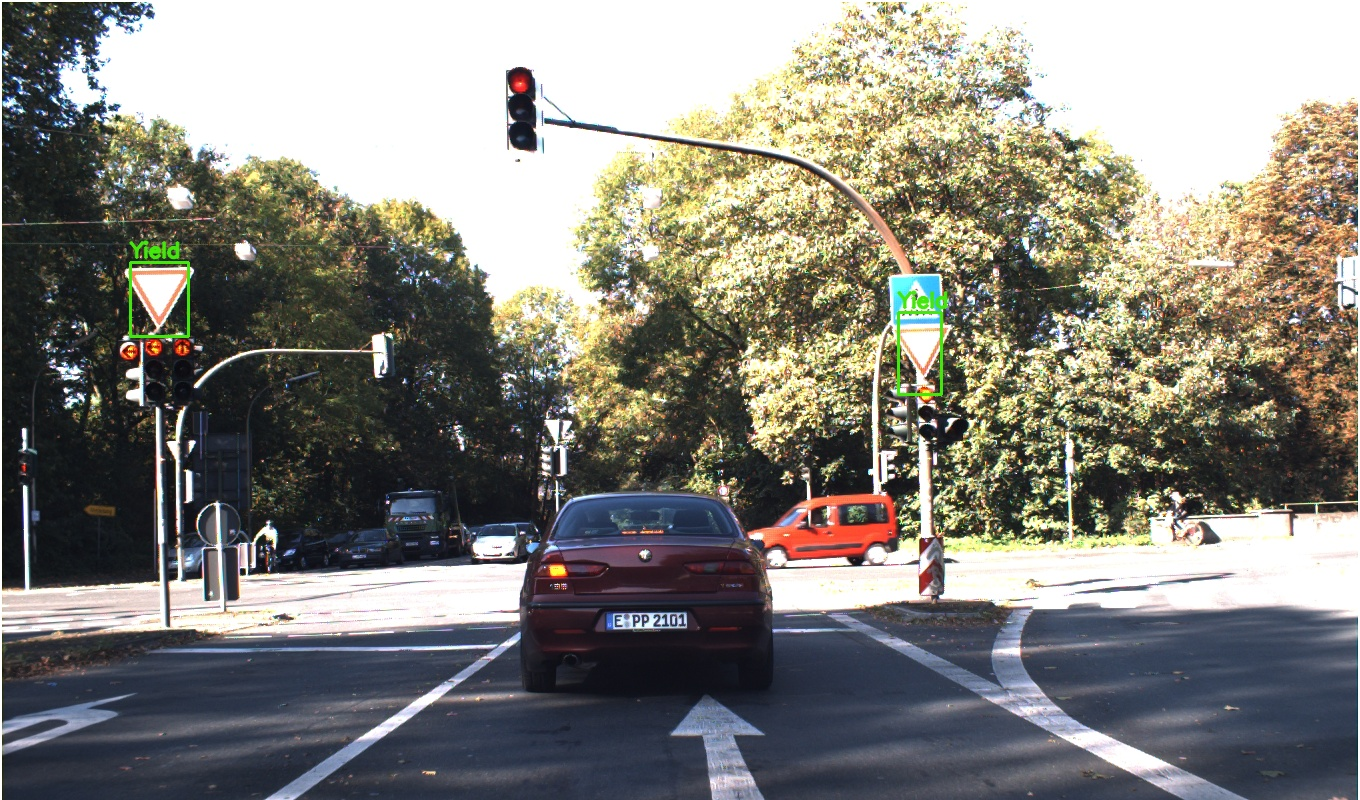Speed limit (70km/h): (836, 456, 858, 478)
